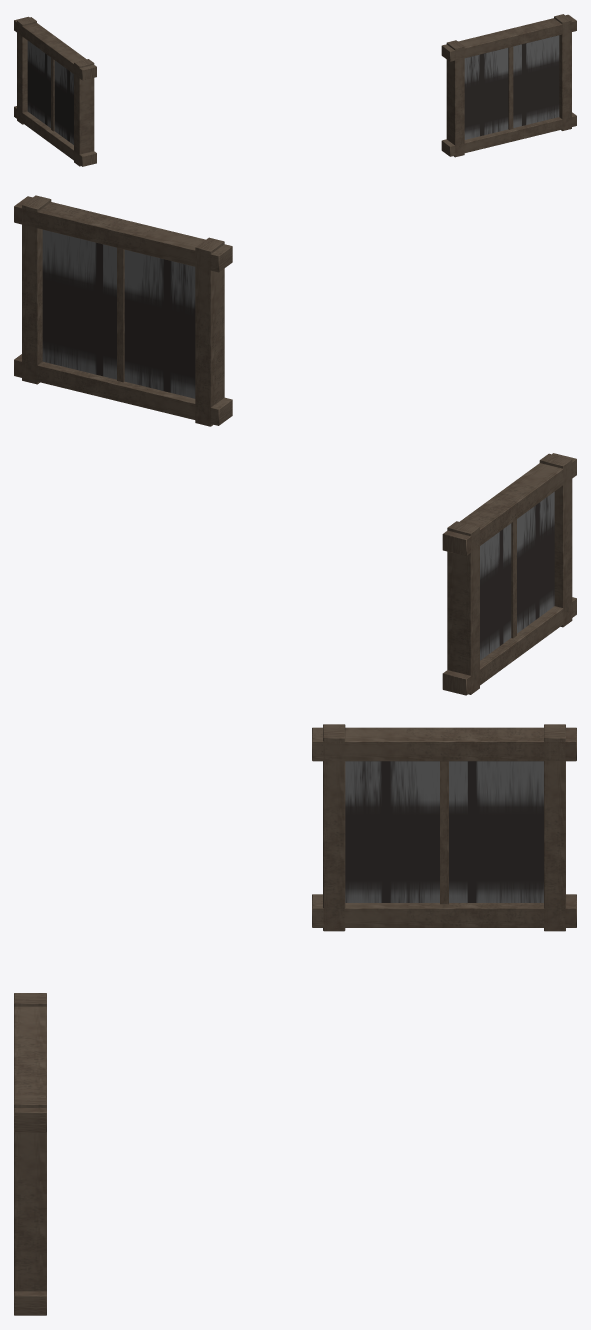
File: BW_Blacksmith01_Windows.fbx
The picture shows the model from 3 angles, top to bottom: view 1: azimuth 30°, elevation 25°; view 2: azimuth 150°, elevation 25°; view 3: azimuth 270°, elevation 25°; orthographic projection. The views are drawn at different scales.
Visible parts, largest first — view 1: BW_Blacksmith01_Windows; view 2: BW_Blacksmith01_Windows; view 3: BW_Blacksmith01_Windows.
Boxes of the visible parts, bbox=[...] form: BW_Blacksmith01_Windows: bbox=[14, 14, 576, 166]; BW_Blacksmith01_Windows: bbox=[14, 195, 576, 695]; BW_Blacksmith01_Windows: bbox=[14, 724, 576, 1315].
Size of the model in its own units: 5.06 by 1.26 by 3.06.
